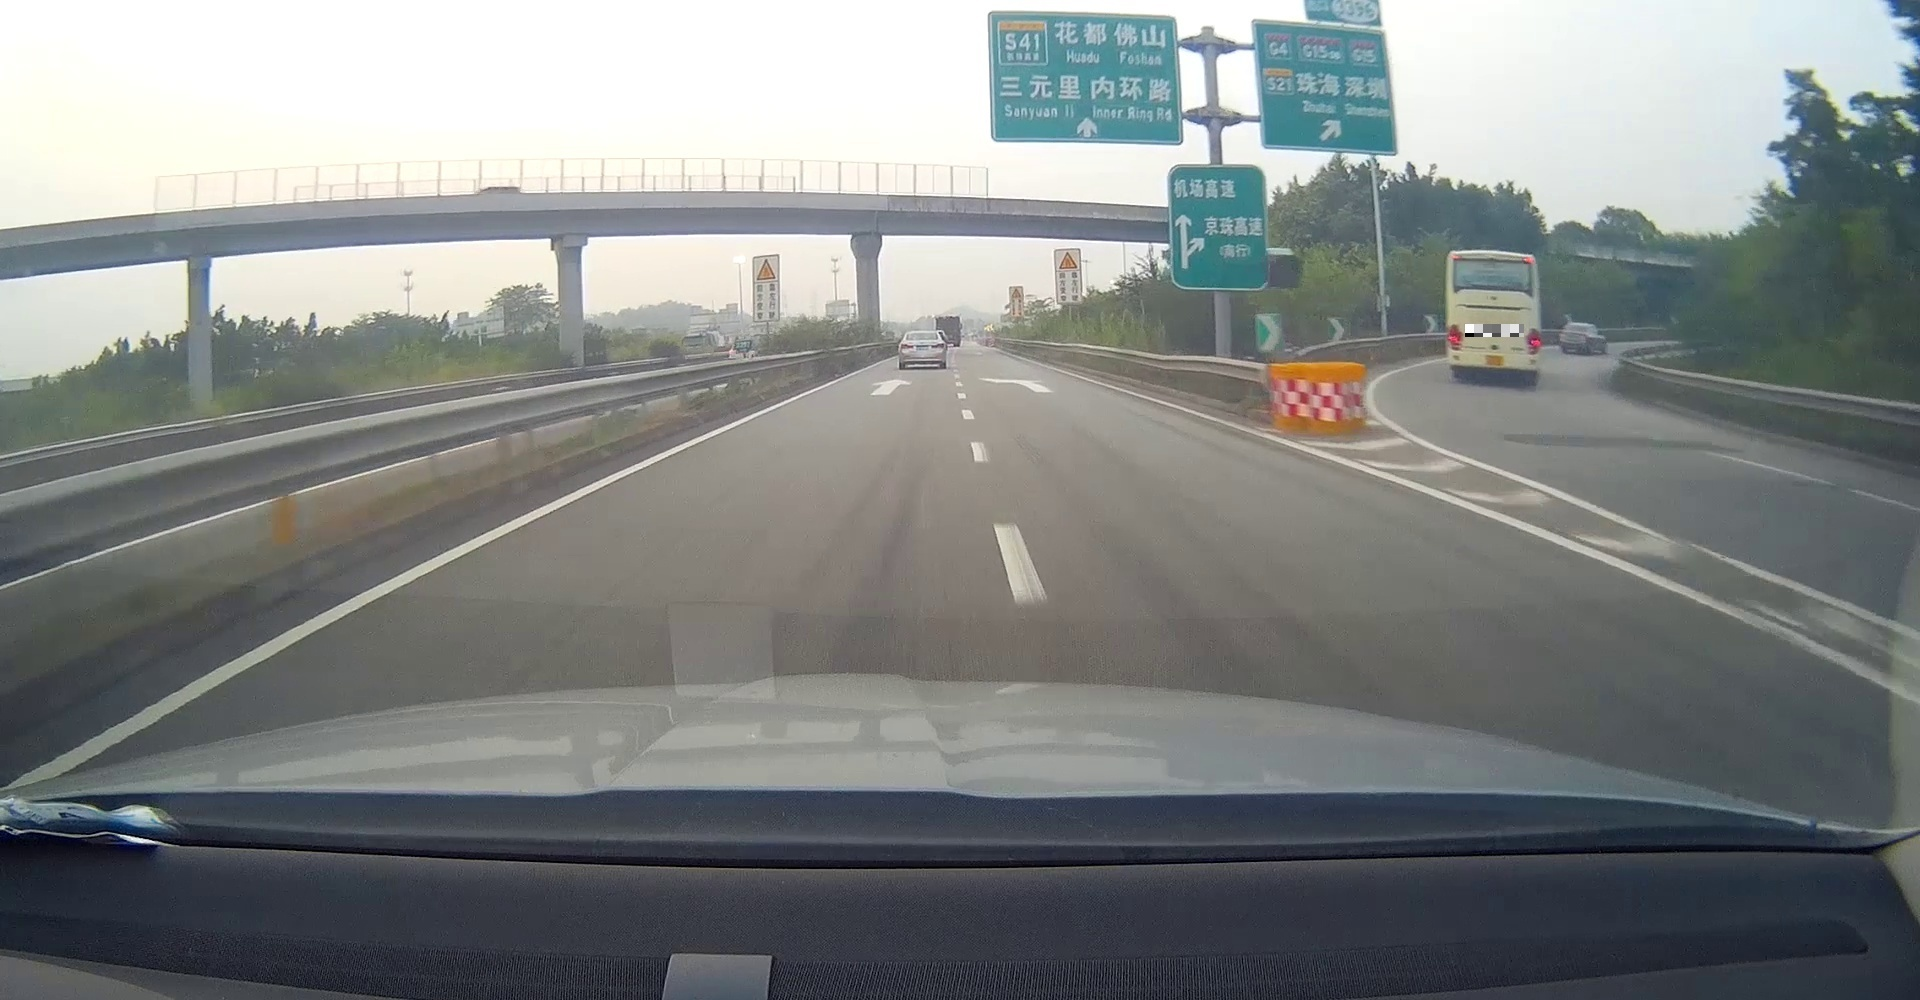L_light: (1446, 324, 1463, 350), (902, 343, 914, 349)
R_light: (1526, 327, 1540, 354), (931, 343, 943, 348)
T_light: (1486, 258, 1502, 264), (919, 332, 926, 335)
day-brake: (1445, 249, 1542, 385)
day-no: (899, 330, 945, 369)
plate_1: (1465, 324, 1524, 338)
